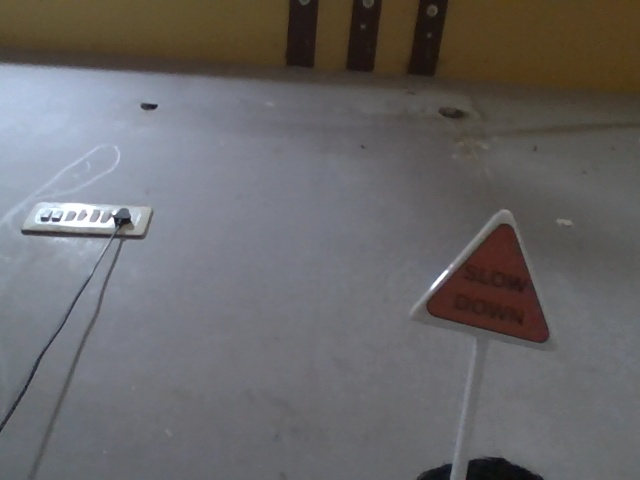slowdown: (430, 205, 552, 349)
